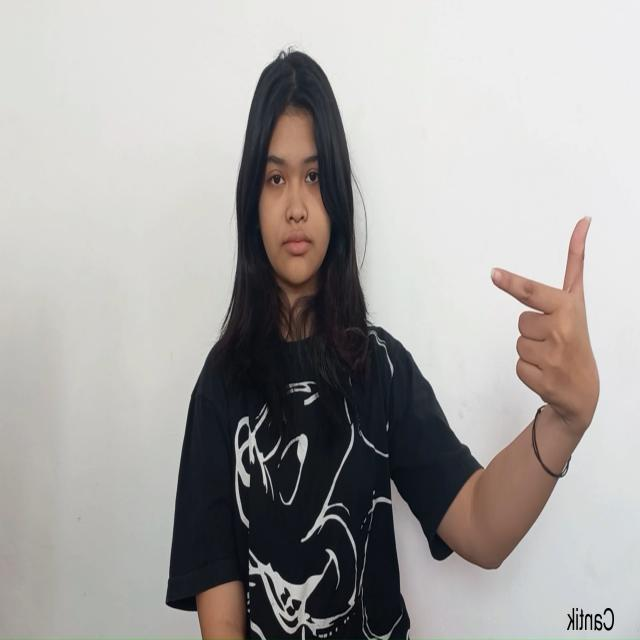Cantik -BISINDO-: (489, 213, 602, 461)
